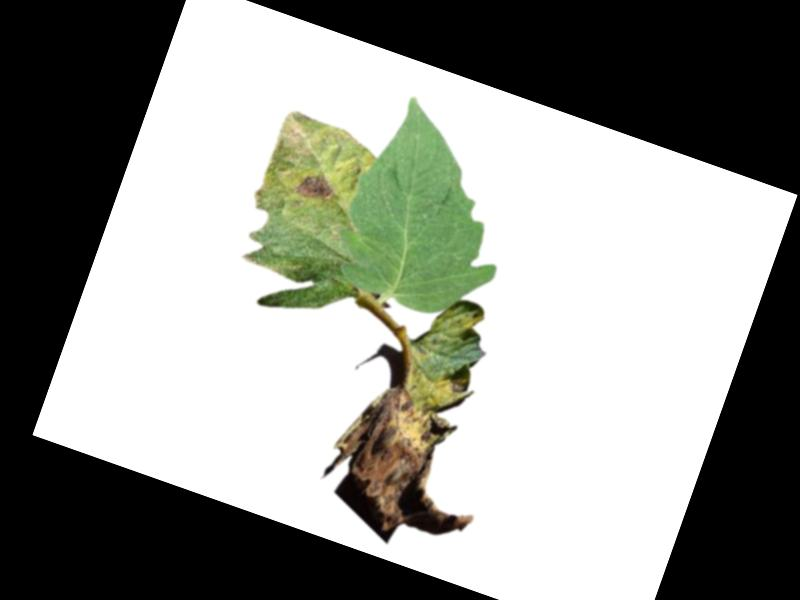Early_blight: (311, 343, 521, 560), (293, 165, 338, 205)
